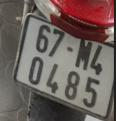0: (26, 54, 47, 88)
4: (42, 59, 66, 97), (88, 41, 110, 78)
5: (78, 73, 103, 112)
6: (32, 23, 54, 56)
7: (46, 26, 68, 60)
8: (61, 67, 85, 103)
M: (73, 35, 95, 73)
